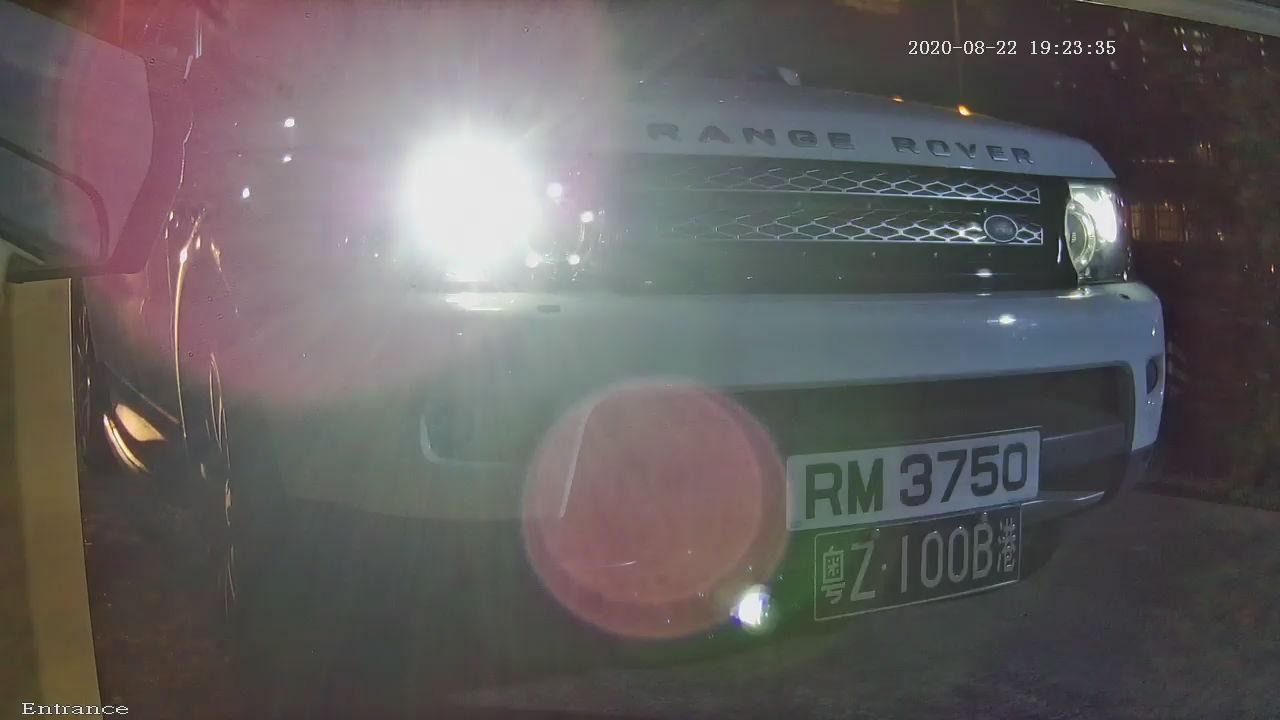Car: (41, 1, 1241, 720)
License Plate: (766, 399, 1052, 550)
